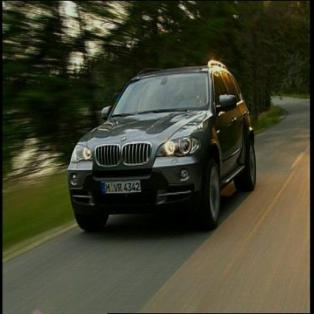Auto: (68, 58, 256, 234)
